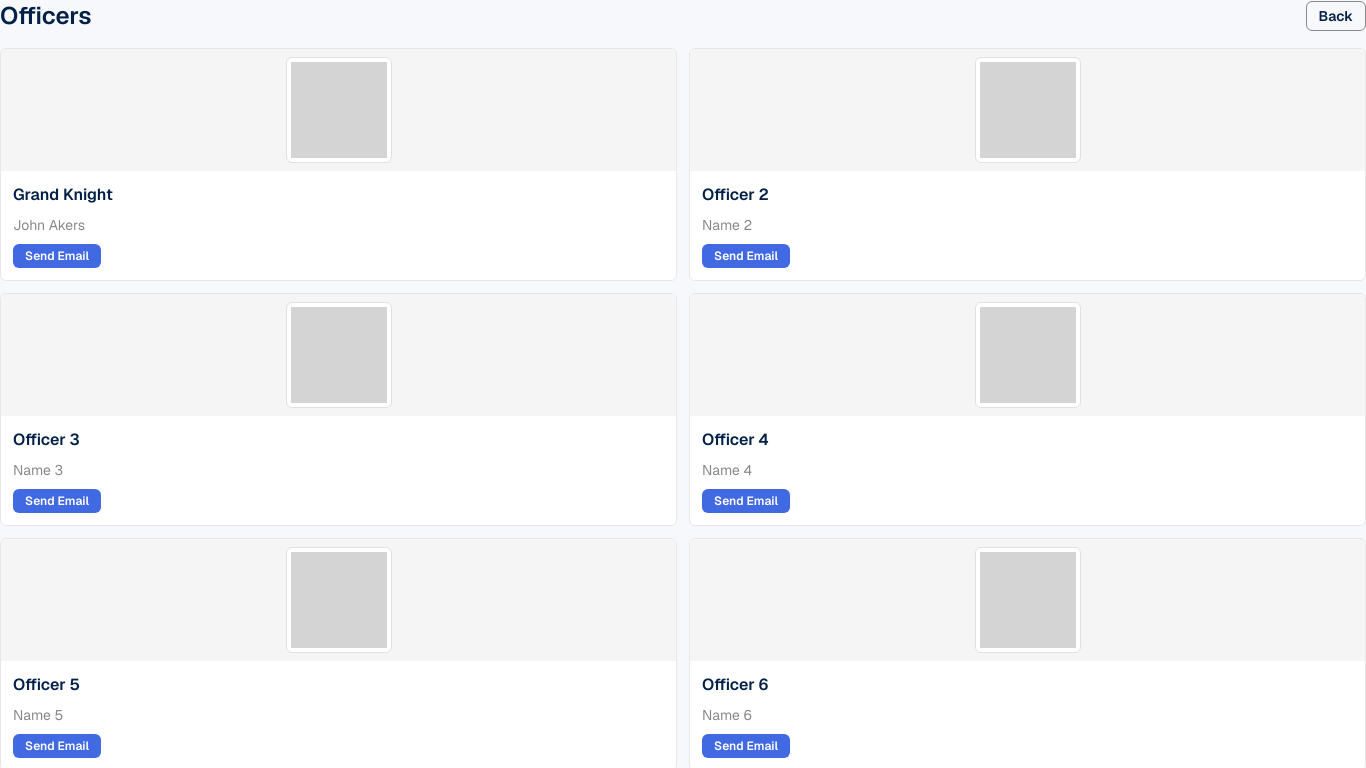
Test: OfficerContacts › shows compose form when Send Email is clicked
Click the button "Send Email" below "John Akers".
click(57, 256)  # box [13, 244, 101, 268]
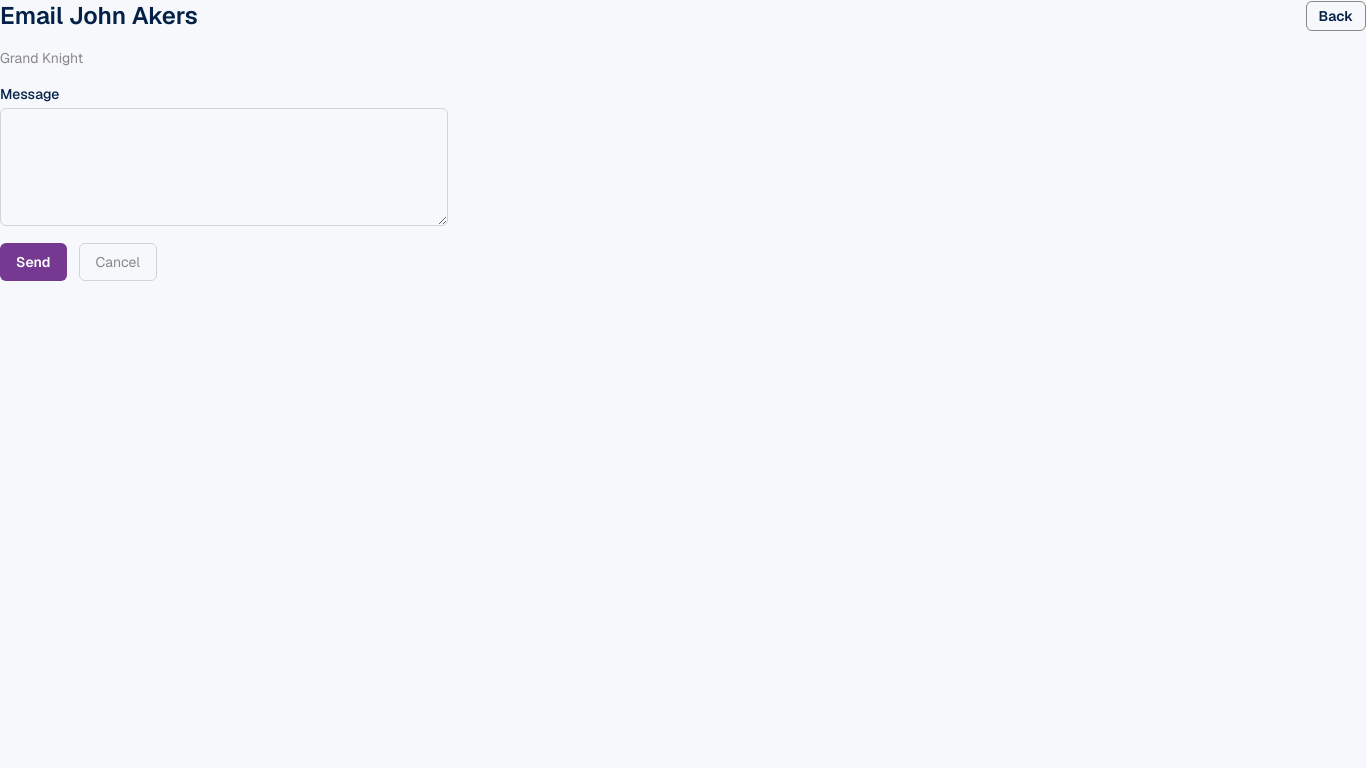
Expected: the button "Send" is shown, [0, 243, 66, 281]
Now the text "Message" is shown, box [0, 84, 448, 231]
